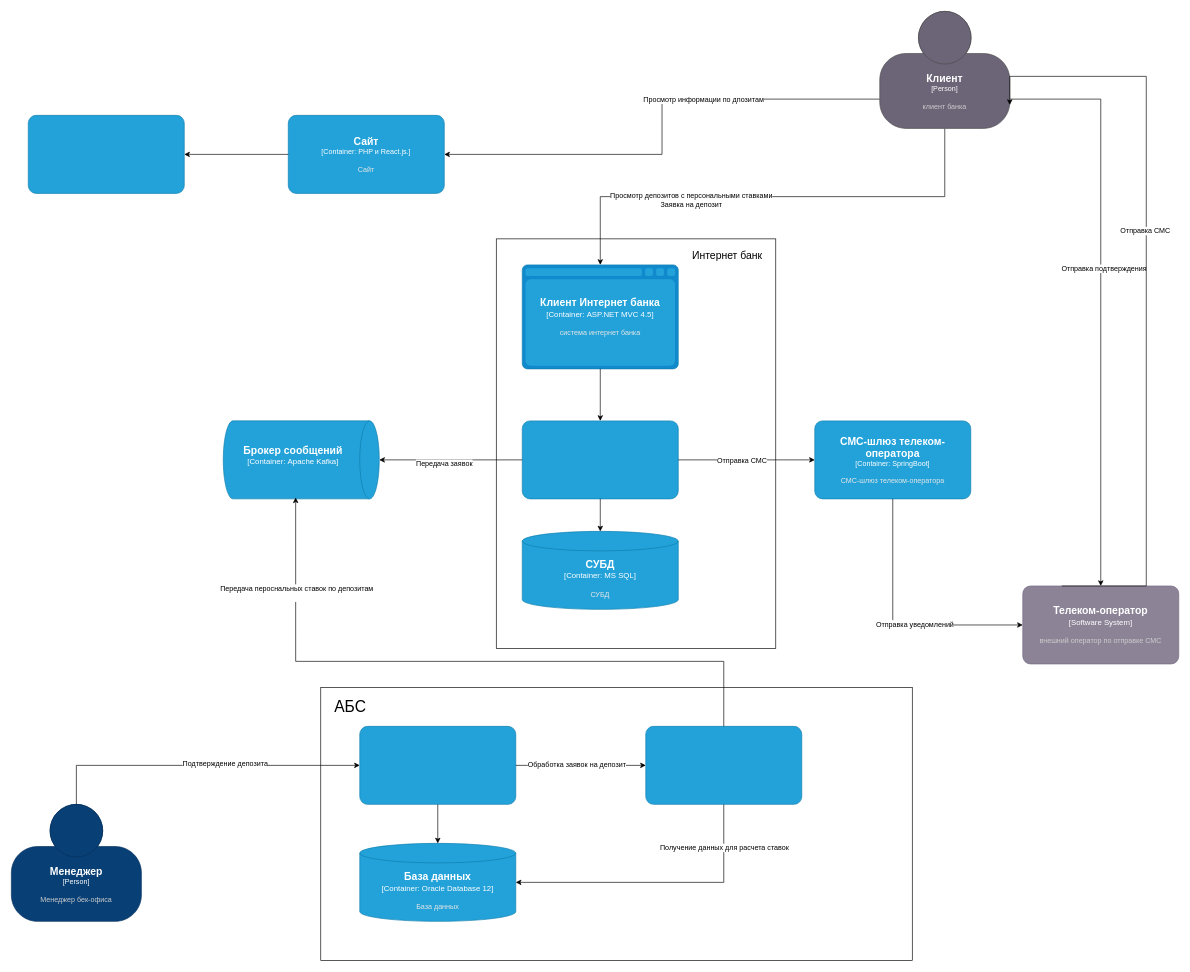
Some shapes in this 1190 by 972 pixel diagram are drawn without their labels. The shapes that lost their labels are listed below. From the top down, each one's centre as x and y in pixels, then its label:
At [106,154]: "Система кол-центра [Container: Java Spring Boot]".
At [600,459]: "бекенд интернет банка [Container: ASP.NET MVC 4.5 на основе .NET Framework 4.5]".
At [437,765]: "Клиент АБС [Container: Delphi] Description of container role/responsibility.".
At [723,765]: "Сервис депозитов [Container: .Net] Новый микросервис для обработки депозитов".
